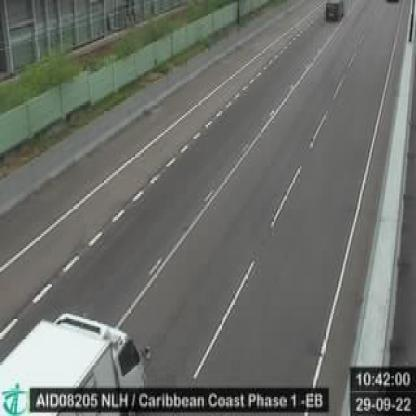Car: (324, 0, 346, 23)
Truck: (0, 310, 159, 414)
